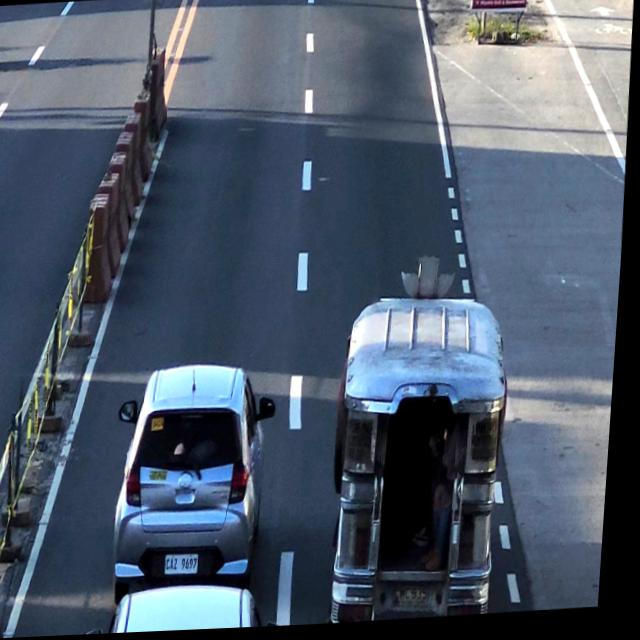Car: (115, 363, 271, 584), (103, 582, 283, 635)
Jeep: (329, 284, 518, 626)
License-Plate: (401, 583, 440, 618), (170, 554, 206, 579)
